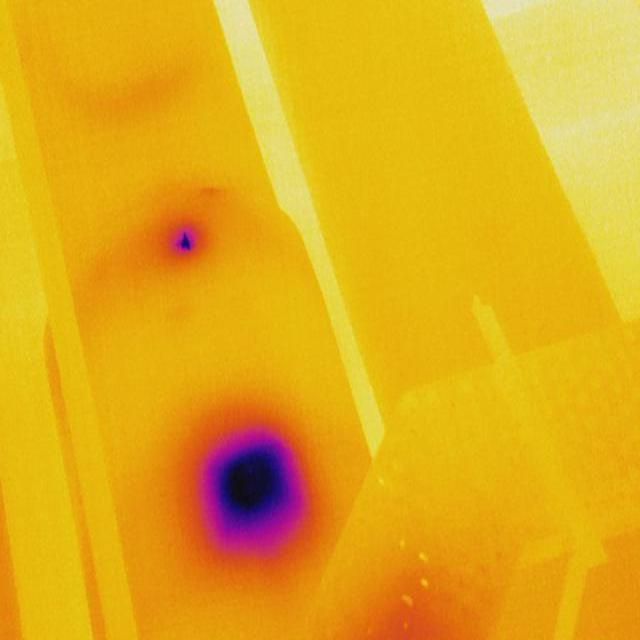leakage: (182, 415, 312, 569), (356, 575, 462, 640), (172, 221, 199, 258)
